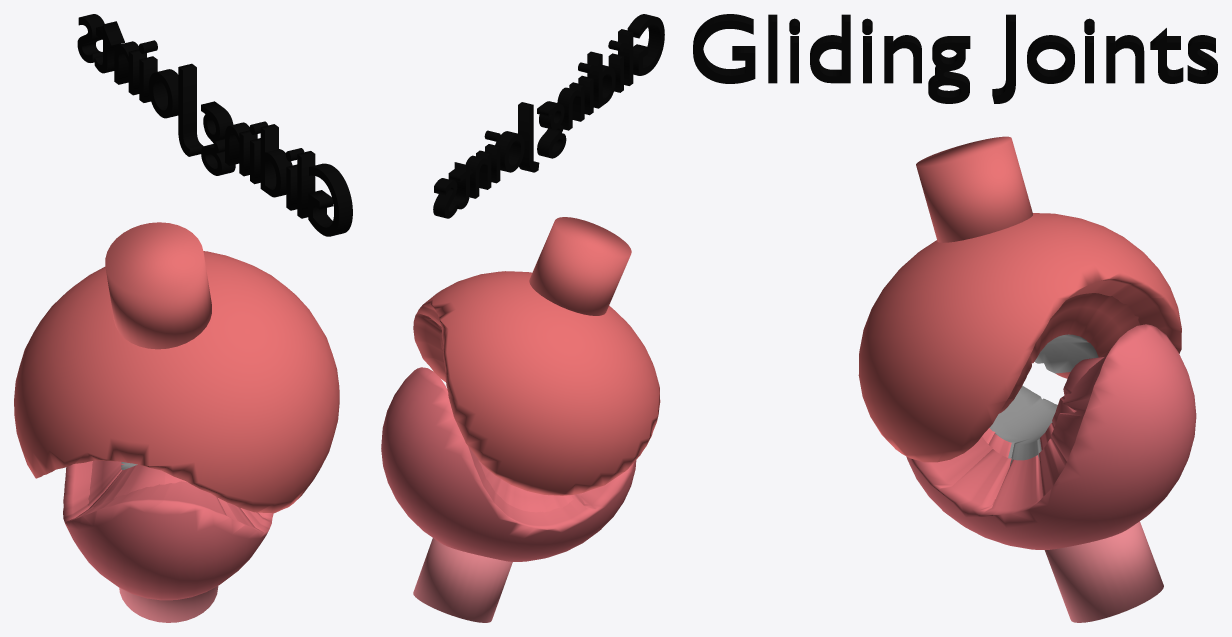
File: Gliding Joints.gltf
3 renders of one model, left to right at view 1: azimuth 30°, elevation 25°; view 2: azimuth 150°, elevation 25°; view 3: azimuth 270°, elevation 25°, orthographic. The views are drawn at different scales.
Parts seen in each view (by area): view 1: Sphere, Sphere.001, Text; view 2: Sphere, Sphere.001, Text; view 3: Sphere, Sphere.001, Text.
Boxes of the visible parts, x1=… form: Sphere: x1=14, y1=222, x2=339, y2=513; Sphere.001: x1=63, y1=460, x2=273, y2=622; Text: x1=77, y1=14, x2=352, y2=236; Sphere: x1=413, y1=217, x2=660, y2=495; Sphere.001: x1=381, y1=367, x2=636, y2=622; Text: x1=433, y1=14, x2=664, y2=218; Sphere: x1=858, y1=136, x2=1181, y2=462; Sphere.001: x1=906, y1=324, x2=1196, y2=622; Text: x1=693, y1=14, x2=1217, y2=103.
Size of the model in its own units: 1.97 by 3.94 by 3.2.
